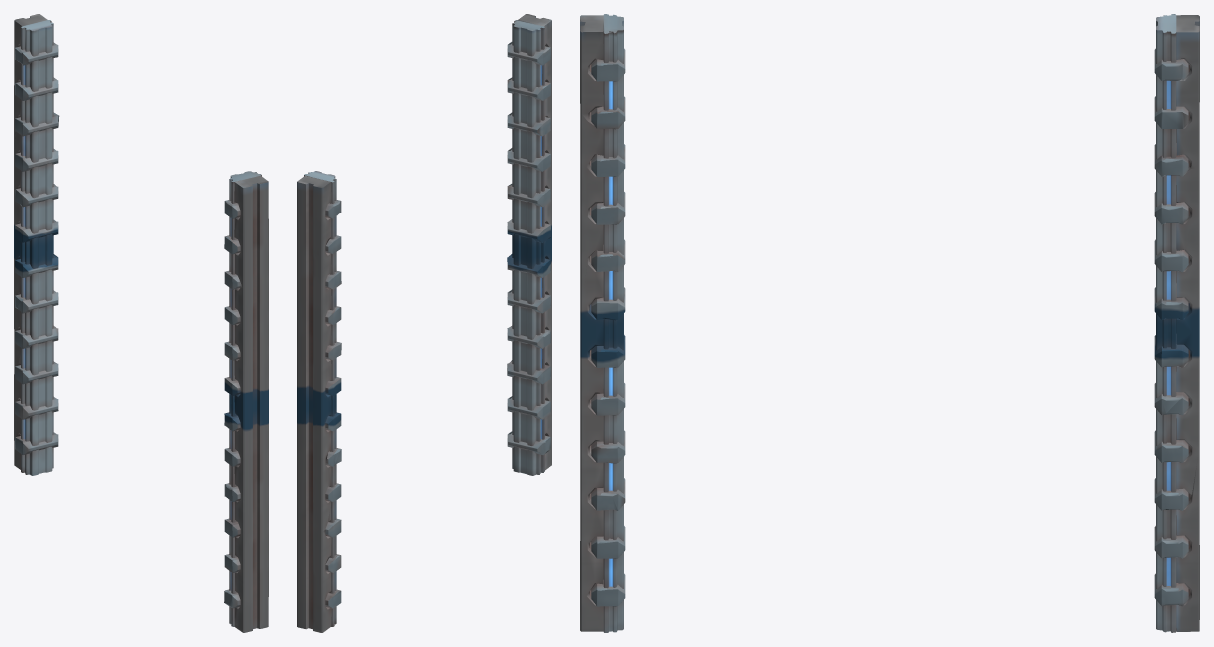
Rendered from Tek Fence Support.glb.
The picture shows the model from 3 angles, left to right: view 1: azimuth 30°, elevation 25°; view 2: azimuth 150°, elevation 25°; view 3: azimuth 270°, elevation 25°; orthographic projection. The views are drawn at different scales.
Visible parts, largest first — view 1: SM_Tek_FenceSupport; view 2: SM_Tek_FenceSupport; view 3: SM_Tek_FenceSupport.
Part boxes in pixels (<box>): SM_Tek_FenceSupport: <box>14,14,268,632</box>; SM_Tek_FenceSupport: <box>297,14,551,632</box>; SM_Tek_FenceSupport: <box>580,14,1199,632</box>.
Size of the model in its own units: 0.2631 by 3 by 2.81.
1 material, 1 textured.
